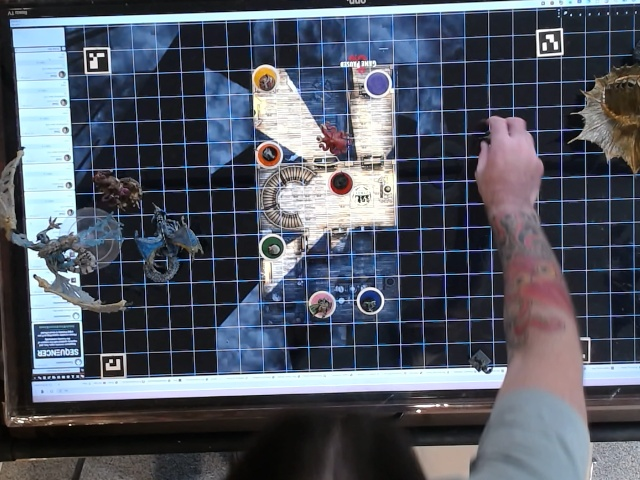blue: (353, 283, 385, 316)
green: (255, 233, 285, 258)
orange: (254, 139, 282, 165)
pink: (304, 285, 337, 317)
red: (326, 166, 355, 196)
violet: (362, 68, 392, 102)
yellow: (249, 62, 283, 92)
